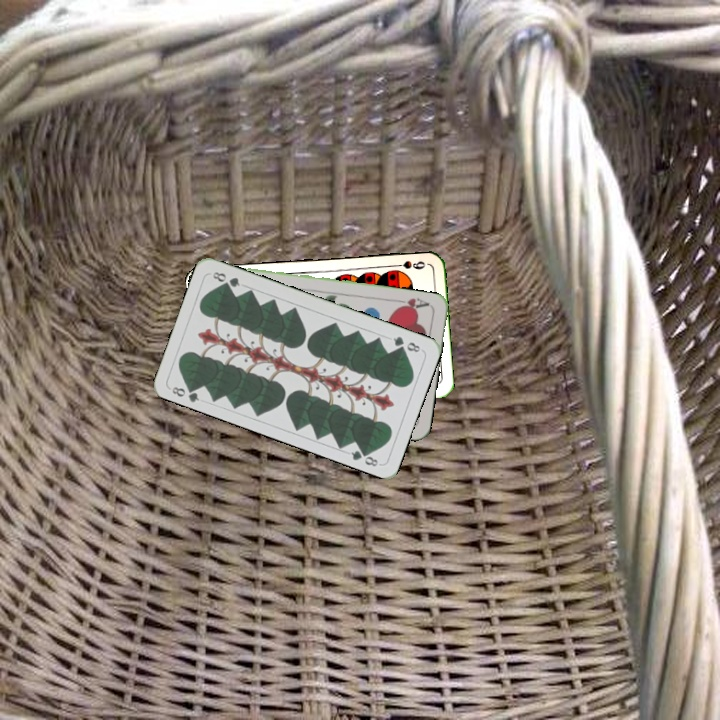G8: (168, 381, 202, 405), (389, 332, 423, 355)
HA: (392, 294, 432, 314)
S9: (388, 257, 428, 276)
